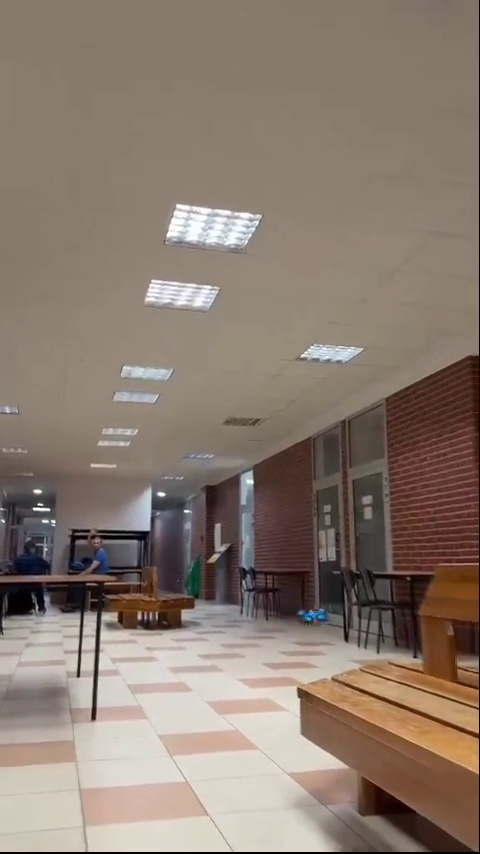drone: (298, 609, 328, 626)
no vest: (72, 539, 111, 603), (12, 534, 54, 591)
